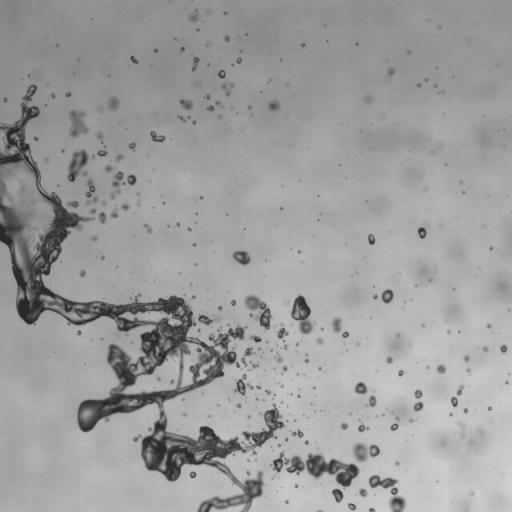droplet: (244, 294, 273, 330), (110, 171, 136, 199), (67, 149, 88, 181), (352, 442, 380, 462), (69, 110, 88, 137), (234, 373, 253, 395), (232, 250, 251, 265), (276, 325, 288, 340), (354, 381, 367, 394), (381, 289, 393, 303), (150, 131, 165, 142), (332, 488, 343, 502), (331, 317, 341, 332), (222, 83, 233, 95), (108, 97, 119, 109), (179, 99, 192, 109), (367, 394, 376, 406), (418, 225, 426, 238), (189, 11, 198, 22), (268, 101, 279, 110), (436, 364, 446, 373), (413, 402, 423, 411), (98, 212, 106, 223), (97, 148, 107, 156), (110, 208, 118, 218), (450, 396, 458, 406), (358, 423, 368, 431), (250, 335, 261, 342), (456, 384, 463, 395), (144, 224, 152, 233), (414, 389, 422, 398), (359, 488, 367, 497), (368, 234, 375, 244), (275, 353, 282, 363), (67, 201, 78, 207), (364, 95, 372, 103), (316, 337, 324, 345), (348, 502, 356, 510), (104, 165, 114, 171), (218, 70, 225, 78), (96, 132, 103, 140), (128, 142, 135, 150), (121, 203, 129, 210), (390, 423, 398, 430), (130, 56, 137, 63), (387, 68, 394, 75), (500, 345, 507, 352), (189, 471, 196, 478), (207, 105, 214, 111), (116, 154, 122, 161), (386, 356, 392, 363), (251, 362, 258, 368), (341, 422, 347, 429), (342, 331, 348, 337), (178, 116, 185, 121), (224, 35, 229, 41), (80, 270, 85, 276), (284, 299, 289, 305), (282, 343, 287, 349), (464, 355, 469, 361), (466, 368, 471, 374), (398, 370, 403, 376), (236, 58, 241, 63), (282, 366, 287, 371), (483, 346, 487, 352), (265, 390, 271, 394), (50, 93, 54, 98), (215, 101, 220, 105), (373, 294, 377, 299), (231, 300, 235, 305), (236, 403, 241, 407), (369, 508, 375, 511), (180, 47, 184, 51), (66, 92, 70, 96), (206, 95, 210, 99), (34, 136, 38, 140), (92, 236, 96, 240), (487, 324, 491, 328), (77, 330, 81, 334), (256, 385, 260, 389), (463, 408, 467, 412), (395, 461, 399, 465), (409, 419, 414, 422), (417, 83, 420, 87), (191, 295, 194, 299), (218, 306, 221, 310), (197, 329, 200, 333), (305, 358, 308, 362), (488, 406, 491, 410), (183, 412, 186, 416), (396, 416, 399, 420), (305, 441, 308, 445), (471, 491, 474, 495), (301, 43, 304, 46), (154, 49, 157, 52), (3, 98, 6, 101), (218, 115, 221, 118), (192, 121, 195, 124), (45, 158, 48, 161), (188, 227, 191, 230), (101, 256, 104, 259), (421, 324, 424, 327), (356, 342, 359, 345), (157, 377, 160, 380), (247, 415, 250, 418), (103, 201, 105, 205), (425, 78, 427, 81), (248, 106, 251, 108), (137, 201, 139, 204), (176, 223, 179, 225), (489, 247, 492, 249), (318, 367, 321, 369), (426, 366, 429, 368), (505, 381, 508, 383), (297, 395, 300, 397), (449, 413, 452, 415), (277, 444, 280, 446), (295, 484, 297, 487), (286, 500, 288, 503), (224, 12, 226, 14), (434, 85, 436, 87), (92, 156, 94, 158), (193, 243, 195, 245), (397, 334, 399, 336), (280, 384, 282, 386), (285, 438, 287, 440), (247, 459, 249, 461)
ligament: (0, 84, 277, 511), (271, 451, 359, 488), (368, 475, 406, 511), (291, 294, 315, 335), (85, 179, 98, 204), (241, 347, 254, 366), (198, 314, 220, 325), (457, 422, 465, 437), (192, 57, 199, 70), (291, 430, 303, 437), (317, 510, 322, 511)
